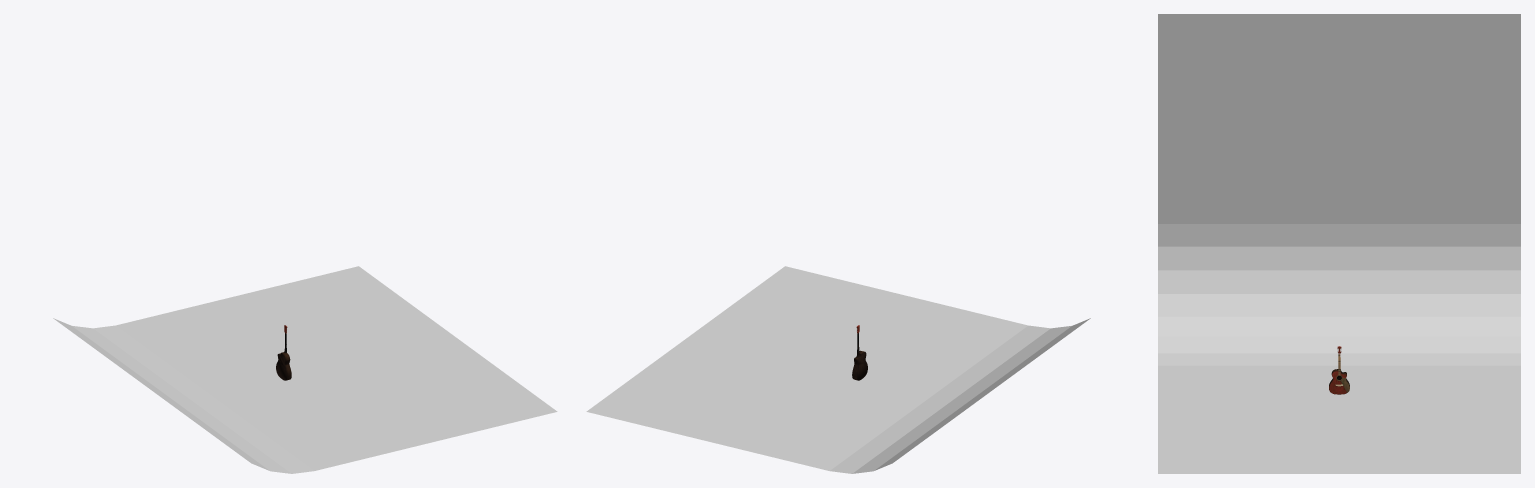
Rendered from Guitar.glb.
3 views of the same model, side by side, from view 1: azimuth 30°, elevation 25°; view 2: azimuth 150°, elevation 25°; view 3: azimuth 270°, elevation 25° (orthographic). The views are drawn at different scales.
Visible parts, largest first — view 1: Background_Plane; view 2: Background_Plane; view 3: Background_Plane, Guitar_Body.
Part boxes in pixels (<box>): Background_Plane: <box>53,266,557,473</box>; Background_Plane: <box>586,266,1090,473</box>; Background_Plane: <box>1158,14,1520,473</box>; Guitar_Body: <box>1329,369,1349,394</box>.
Bounding box in the file's own units: 33.32 × 31.07 × 33.32.
Materials: 8 (6 with a texture image).
